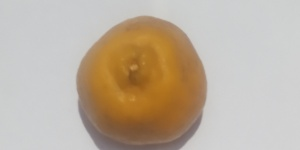BAD: (76, 15, 209, 146)
